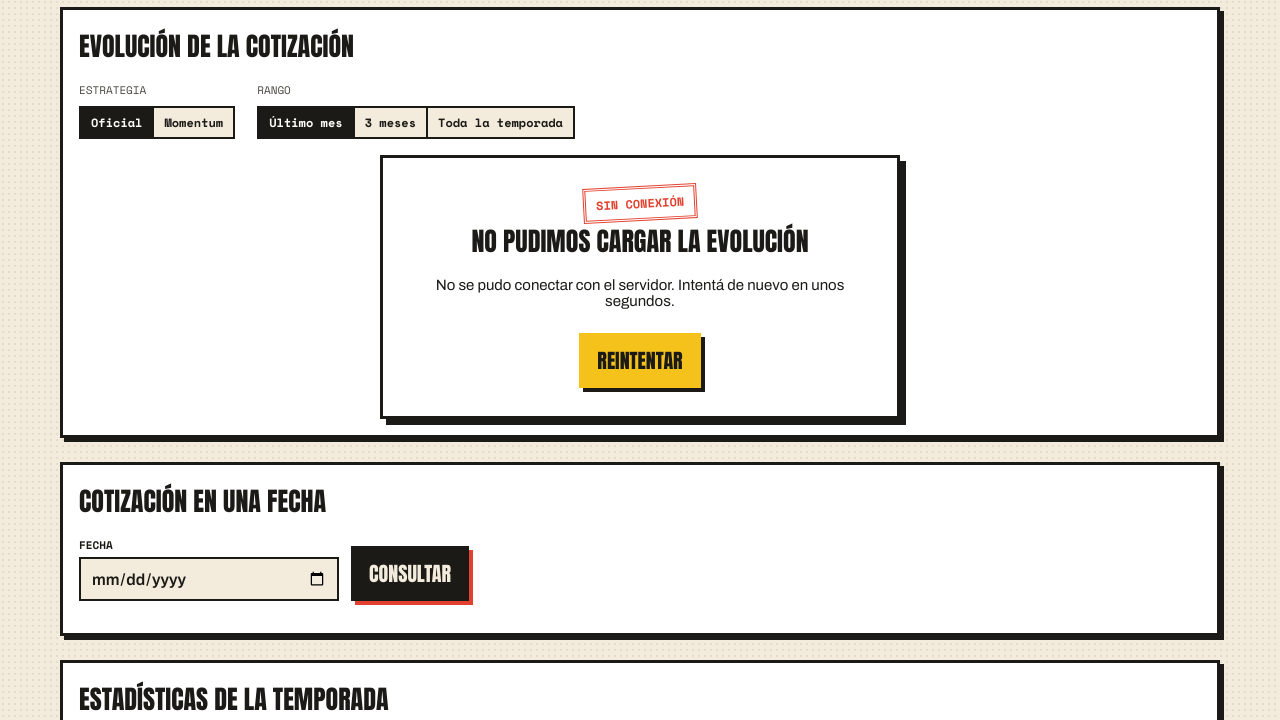
Test case: PlayerDetailPage › evolución › keeps the rest of the page when only the history fails and recovers it with retry
(page scrolled)
Expected: the heading "No pudimos cargar la evolución" is shown, [471,221,809,261]
Click the button "Reintentar" at (640, 360), box [579,333,701,388]
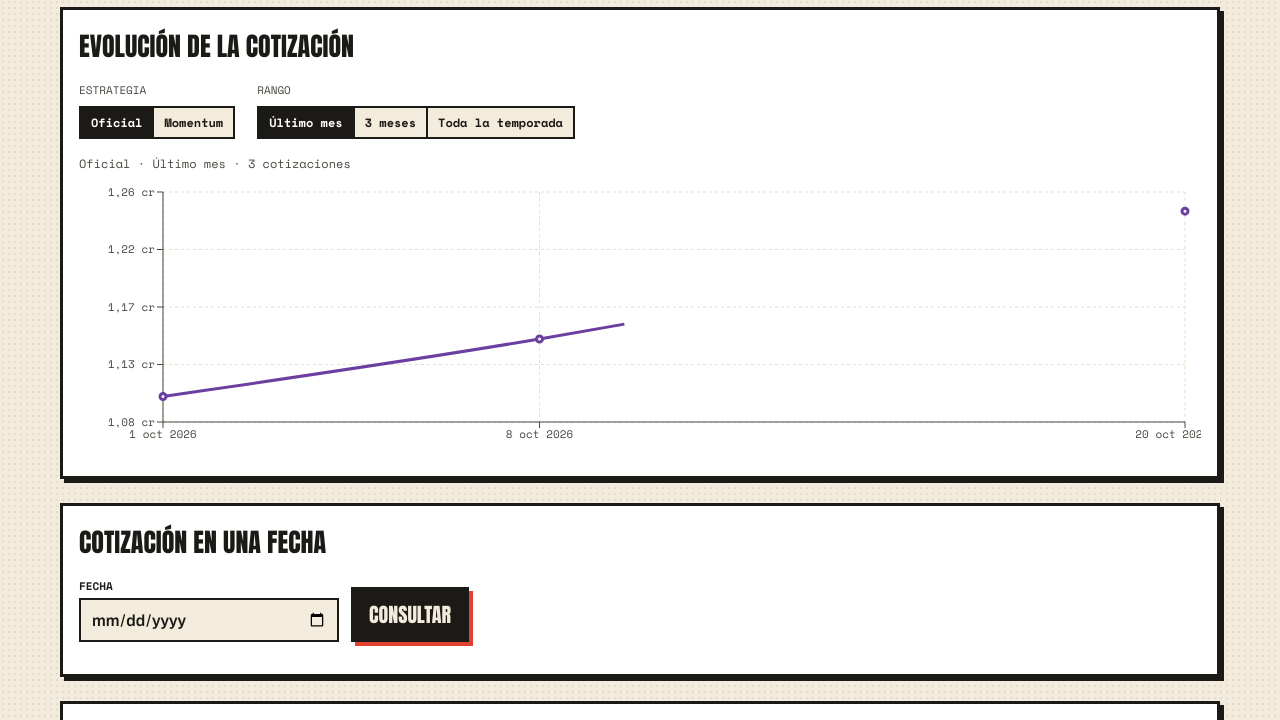
Now the table is shown, box [78,459,329,562]
